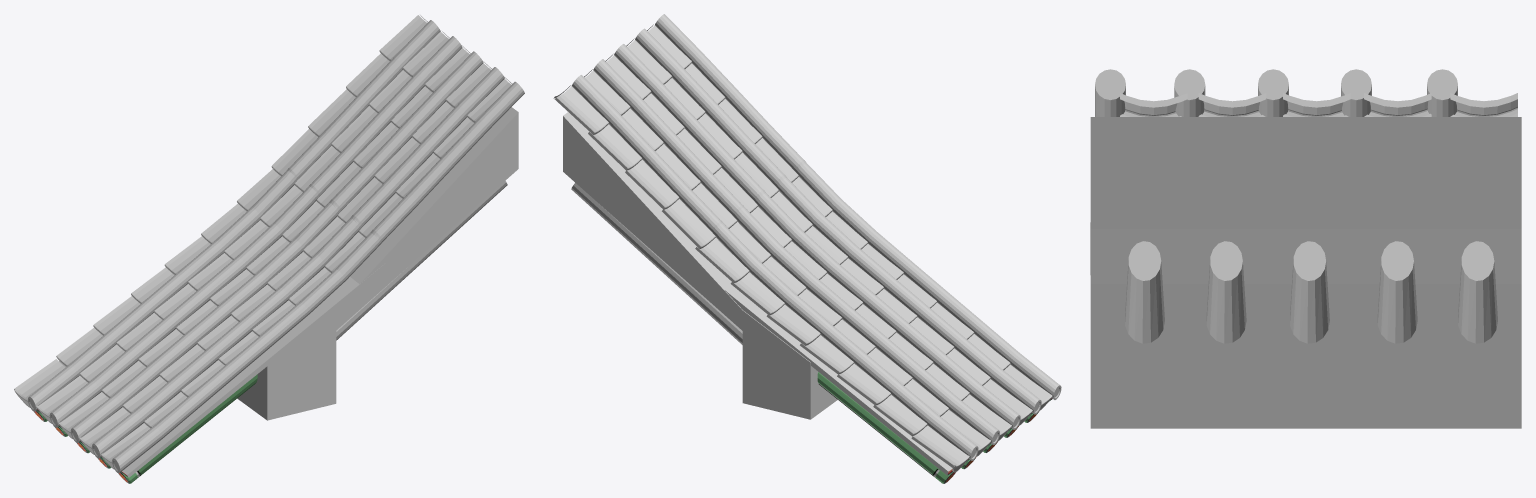
The model's file is SM_Roof_15.fbx.
3 renders of one model, left to right at view 1: azimuth 30°, elevation 25°; view 2: azimuth 150°, elevation 25°; view 3: azimuth 270°, elevation 25°, orthographic. The views are drawn at different scales.
Visible parts, largest first — view 1: SM_Roof_15_LOD0; view 2: SM_Roof_15_LOD0; view 3: SM_Roof_15_LOD0.
Part boxes in pixels (left/top/right/bottom): SM_Roof_15_LOD0: left=14, top=15, right=524, bottom=483; SM_Roof_15_LOD0: left=553, top=14, right=1061, bottom=483; SM_Roof_15_LOD0: left=1090, top=69, right=1521, bottom=428.
Size of the model in its own units: 457 by 211 by 334.
